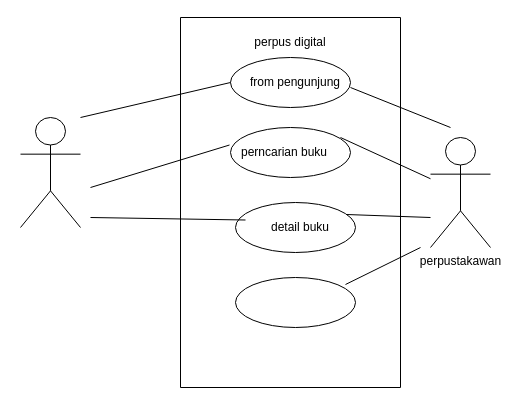
The diagram is 518 pixels wide and 405 high, and some of its shapes have lost their labels. Here are the shapes that lost their labels. From the top down, the centre of each, then its label:
At [50,172]: "pengunjung".
At [295,302]: "laporan statistik".
